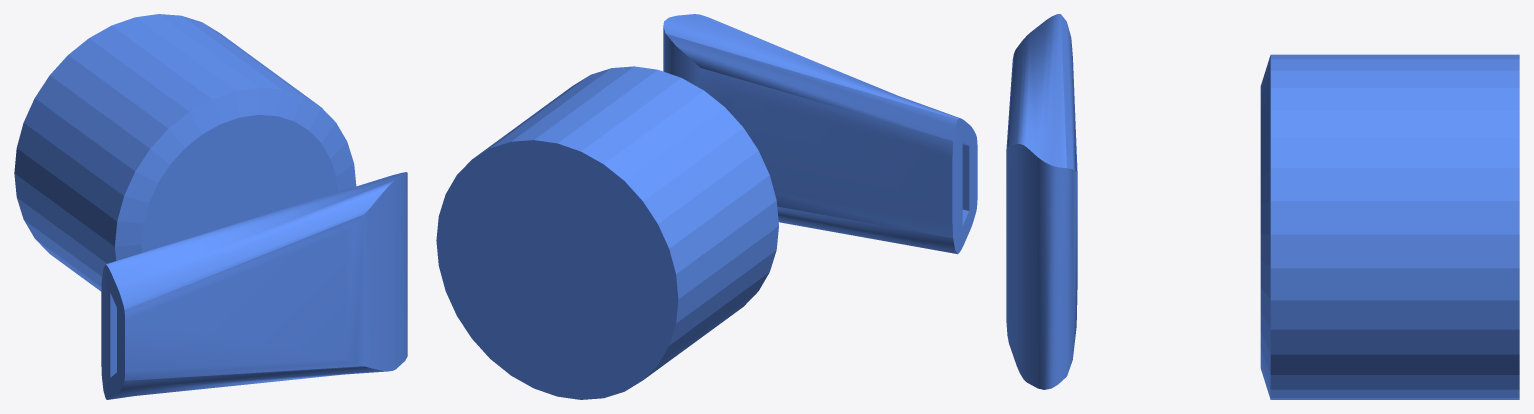
3 views of the same model, side by side, from view 1: azimuth 30°, elevation 25°; view 2: azimuth 150°, elevation 25°; view 3: azimuth 270°, elevation 25° (orthographic). The views are drawn at different scales.
Bounding box in the file's own units: 0.2141 × 0.1542 × 0.2289.
